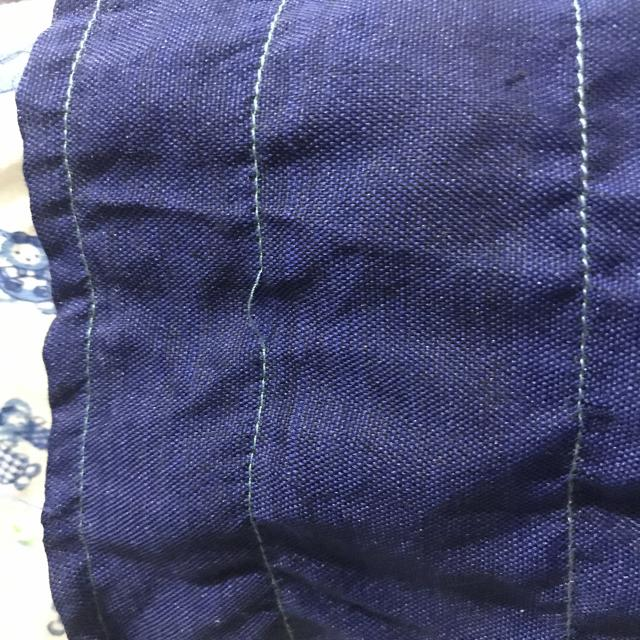good: (243, 131, 278, 228), (243, 391, 272, 480)
skip: (231, 255, 286, 364)
